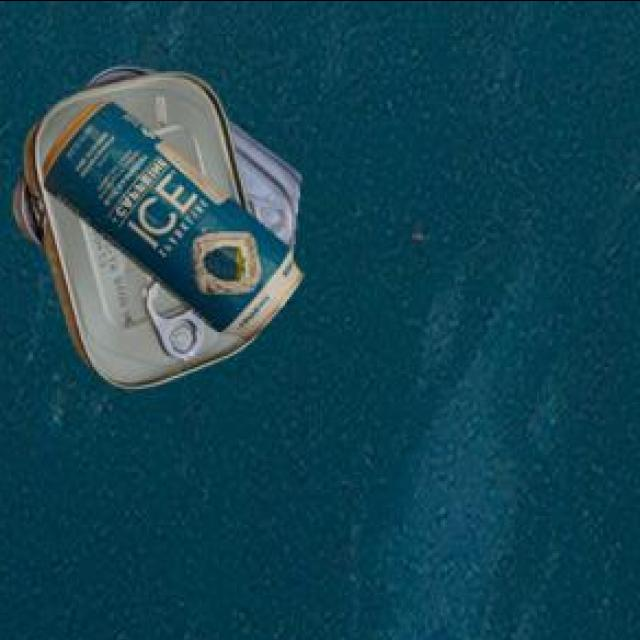logam: (10, 62, 297, 385), (41, 98, 299, 336)
